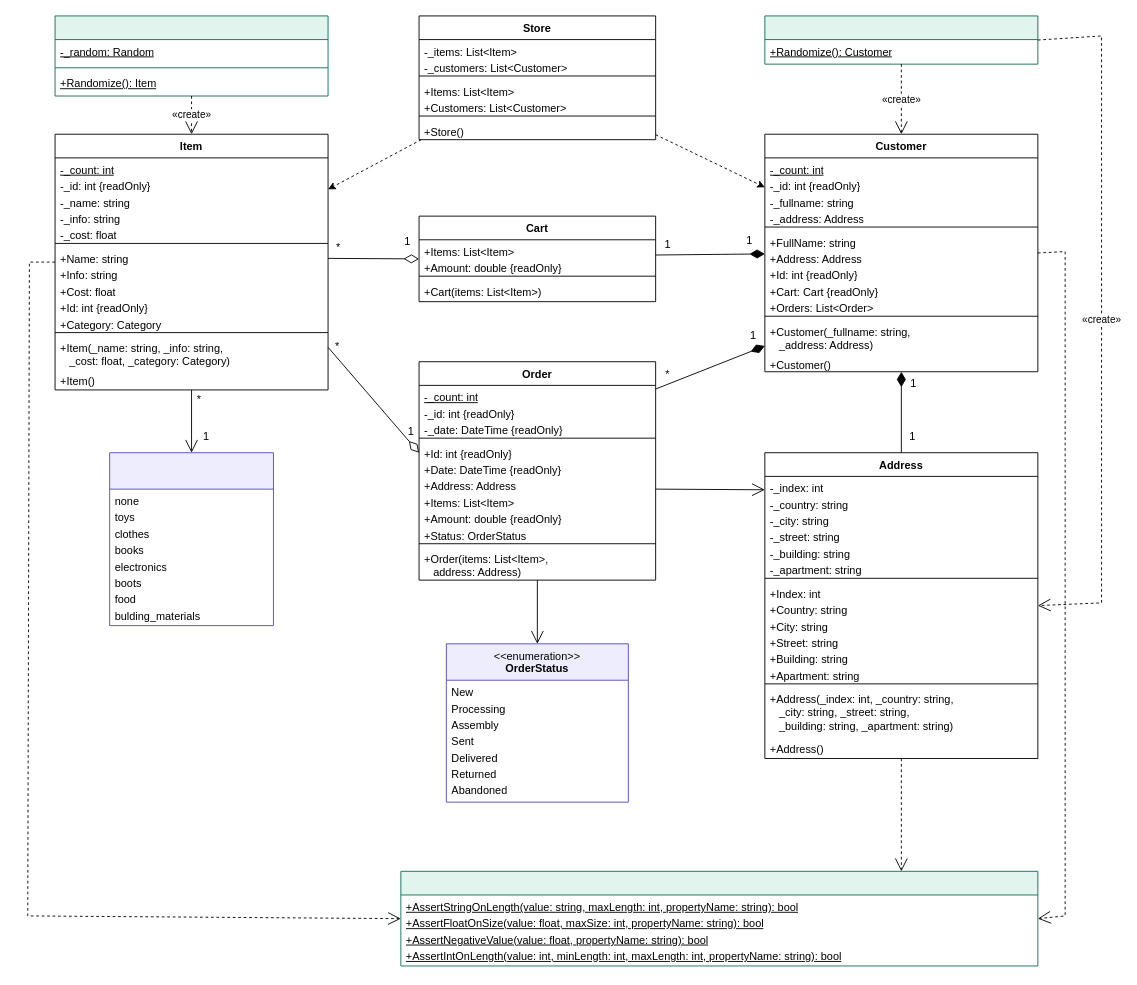
Image size: 1137x985. Some labels were removed from this diagram. Here are the shapes that lost their labels. From the top down, the box of each, then its label:
(54, 15, 328, 96): ItemFactory
(764, 15, 1038, 64): CustomerFactory
(109, 452, 273, 626): <<enumeration>> Category
(400, 870, 1038, 966): ValueValidator
